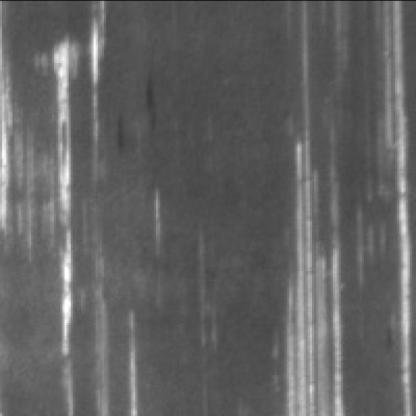scratches: (35, 0, 127, 412), (277, 89, 343, 412), (376, 0, 410, 412)
